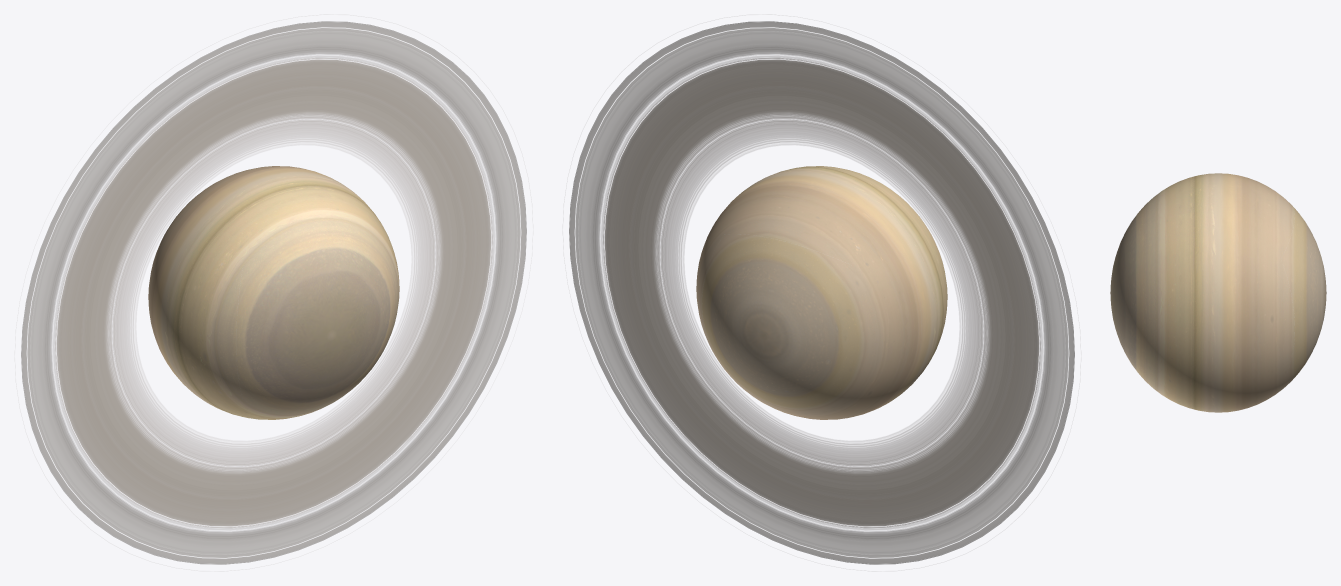
The model's file is saturn.gltf.
3 views of the same model, side by side, from view 1: azimuth 30°, elevation 25°; view 2: azimuth 150°, elevation 25°; view 3: azimuth 270°, elevation 25° (orthographic). The views are drawn at different scales.
Visible parts, largest first — view 1: RingsTop, Saturn.001; view 2: RingsBottom, Saturn.001; view 3: Saturn.001.
Boxes of the visible parts, x1,y1,x2,y2 form: RingsTop: [21, 21, 526, 564]; Saturn.001: [148, 166, 399, 419]; RingsBottom: [569, 21, 1074, 564]; Saturn.001: [696, 166, 947, 419]; Saturn.001: [1110, 173, 1326, 412].
Bounding box in the file's own units: 2.58 × 2.58 × 1.
2 materials, 2 textured.
